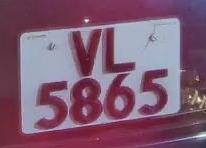5: (136, 64, 173, 122), (31, 78, 71, 131)
6: (102, 68, 138, 124)
8: (69, 75, 105, 127)
L: (99, 19, 145, 76)
V: (64, 24, 104, 79)
